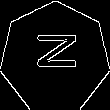N_W: (30, 38, 80, 78)
